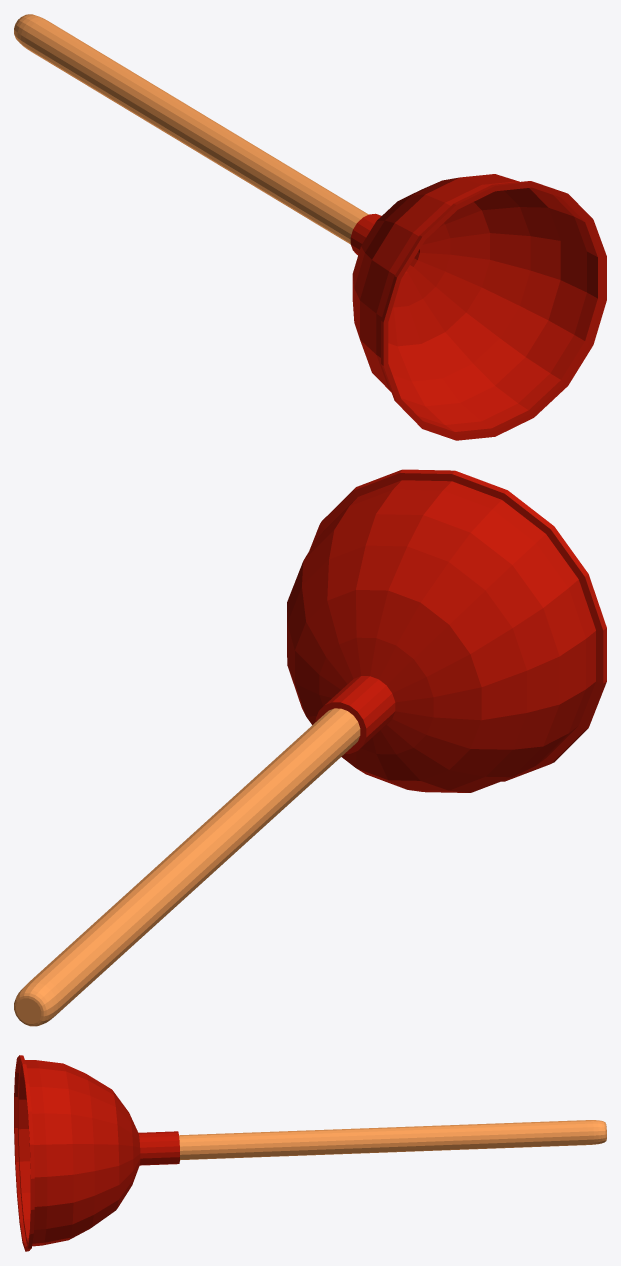
File: Plunger.obj
3 renders of one model, top to bottom at view 1: azimuth 30°, elevation 25°; view 2: azimuth 150°, elevation 25°; view 3: azimuth 270°, elevation 25°, orthographic. The views are drawn at different scales.
Parts seen in each view (by area): view 1: Object001, Cylinder001; view 2: Object001, Cylinder001; view 3: Object001, Cylinder001.
Boxes of the visible parts, x1,y1,x2,y2 form: Object001: (350, 174, 606, 440); Cylinder001: (14, 14, 368, 244); Object001: (287, 469, 606, 792); Cylinder001: (14, 708, 360, 1026); Object001: (14, 1055, 179, 1251); Cylinder001: (179, 1120, 606, 1160).
Bounding box in the file's own units: 270183 × 275399 × 826225.
